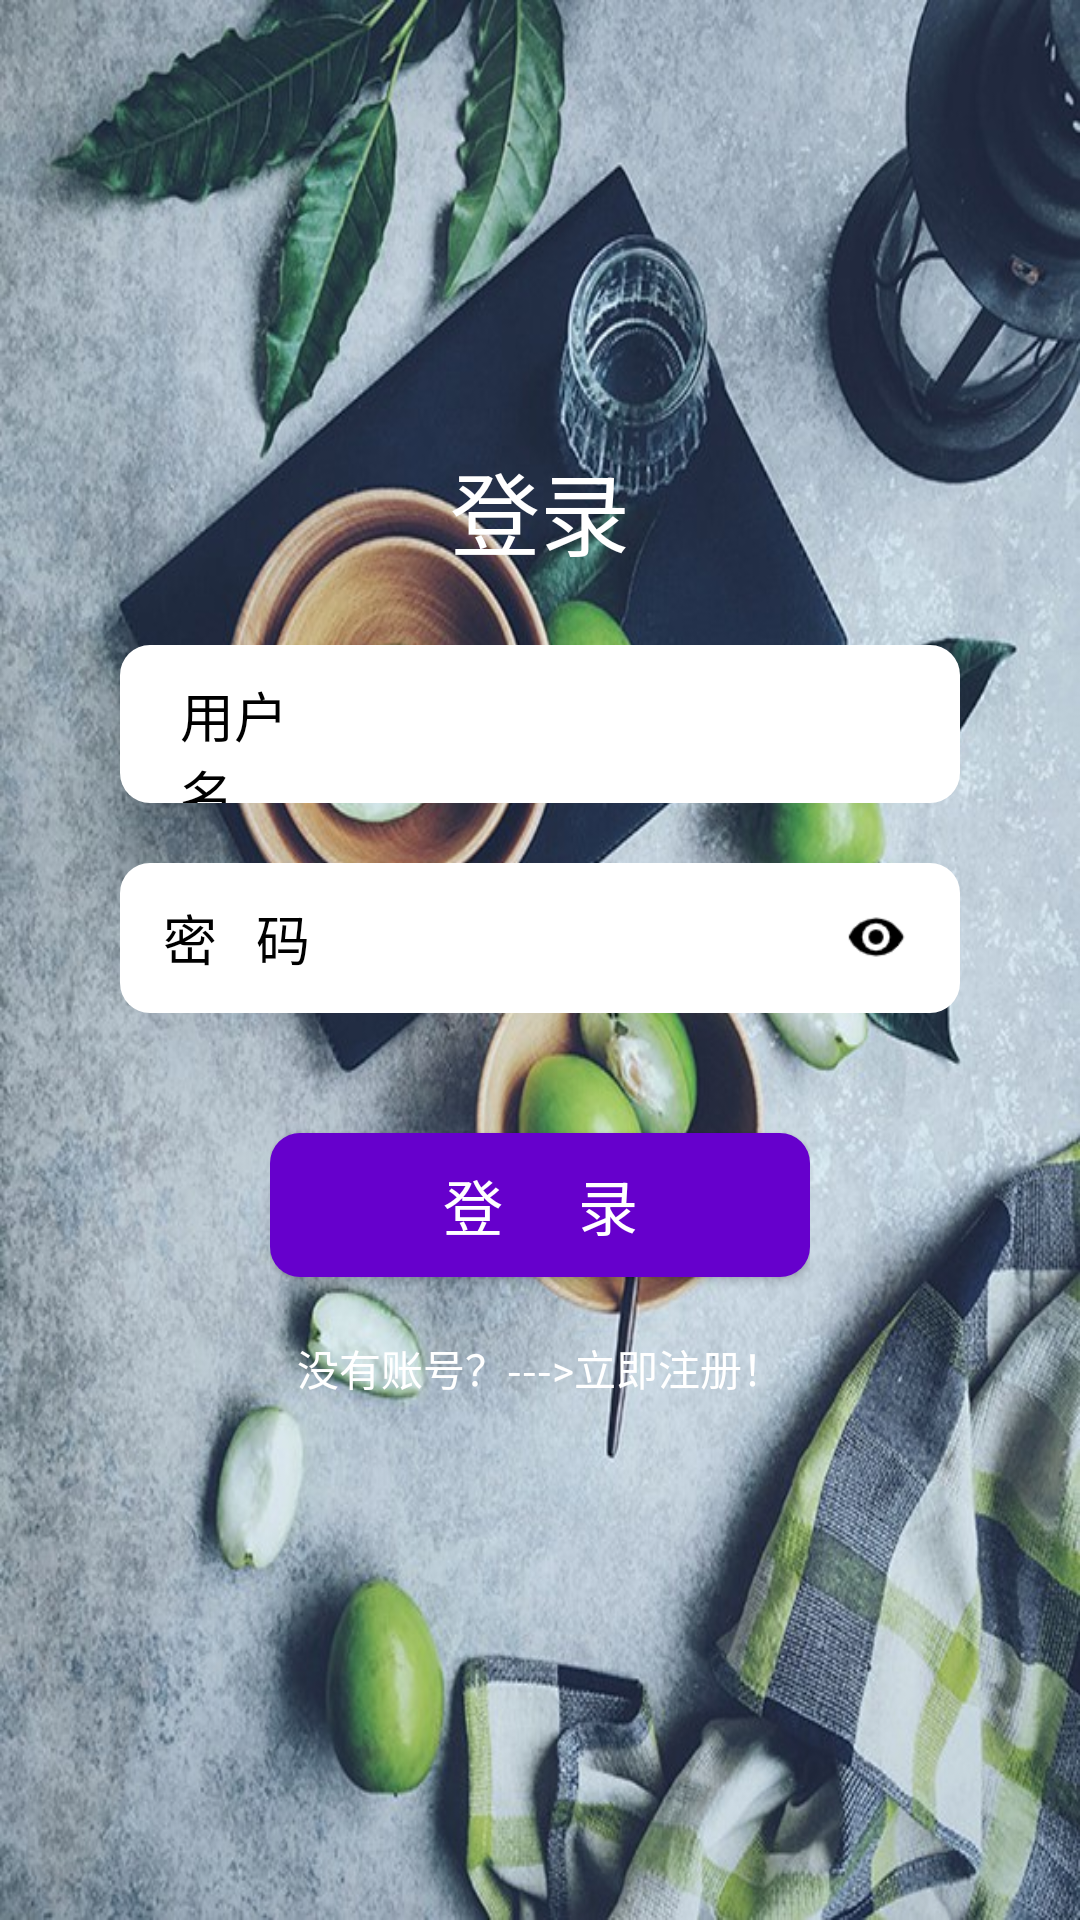

Where to tap for icons on this 1080px×1920px app screen, as [x,y]:
password: [876,937]
